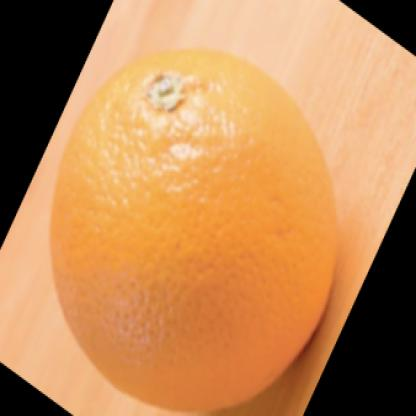fresh: (50, 45, 341, 416)
